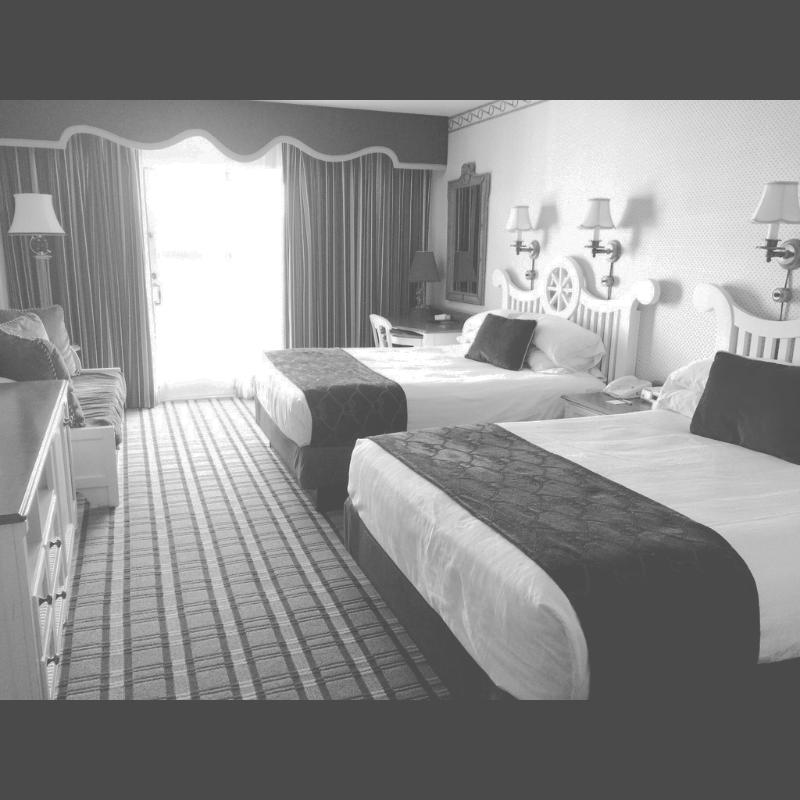pillow: (689, 349, 799, 462), (1, 311, 92, 421), (0, 307, 82, 388), (519, 313, 609, 377), (460, 312, 548, 366), (654, 358, 712, 426), (524, 340, 604, 388)
